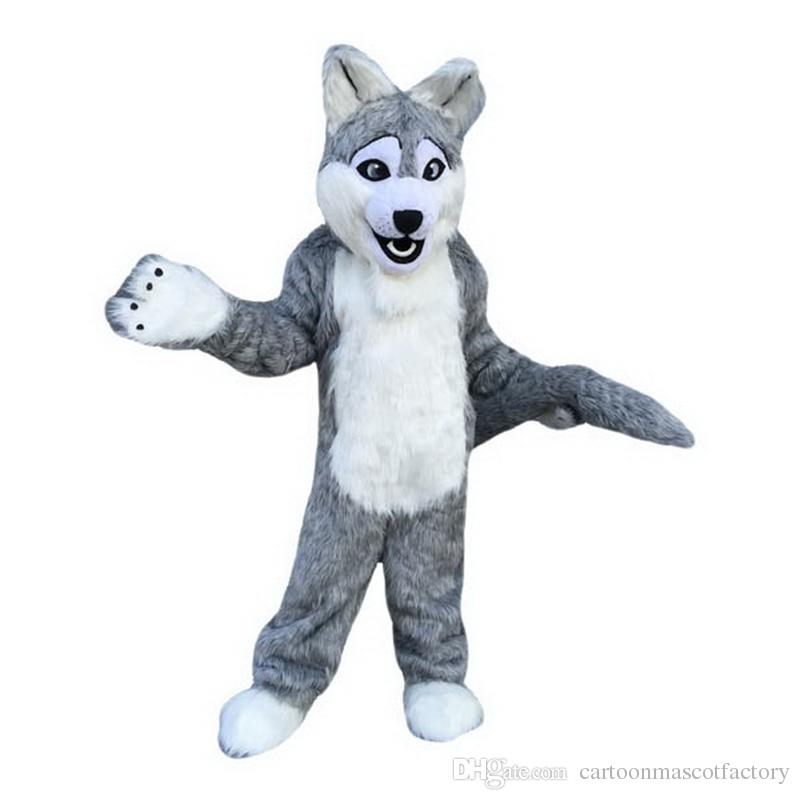Lobo: (93, 48, 681, 765)
